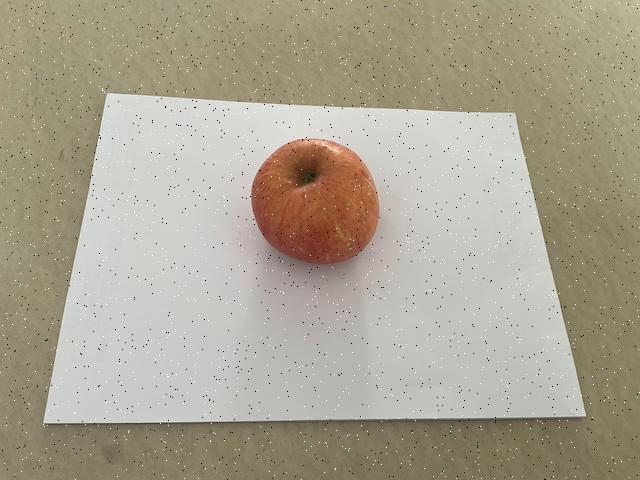apple: (248, 131, 384, 269)
